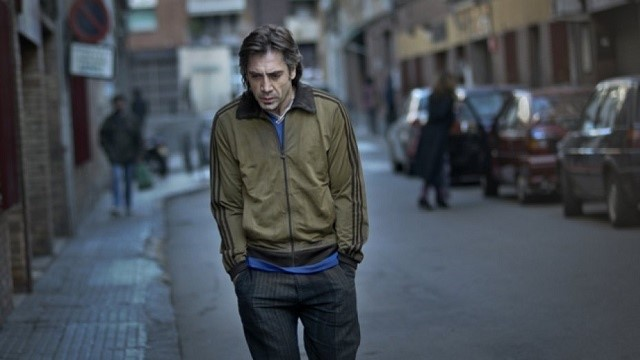face_no_mask: (240, 21, 303, 113)
